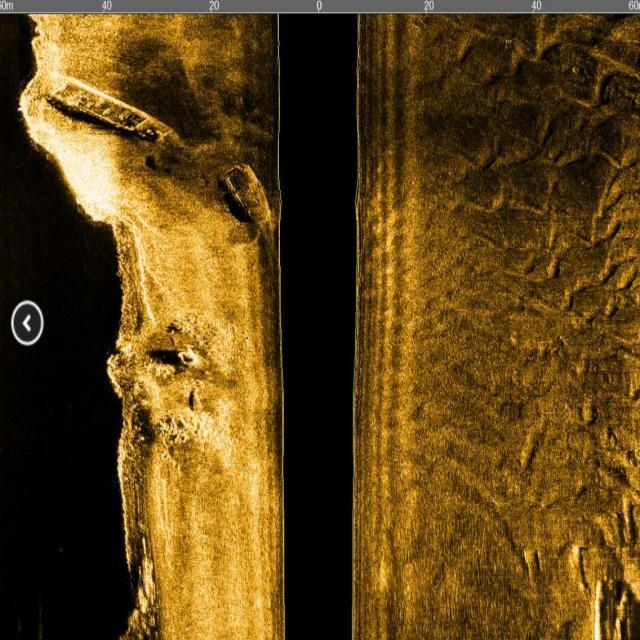shipwreck: (38, 72, 278, 234)
